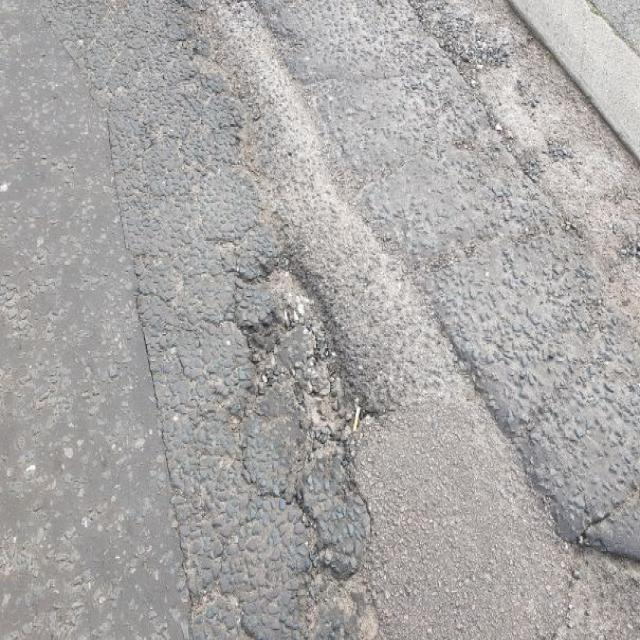Pothole: (214, 233, 387, 505)
